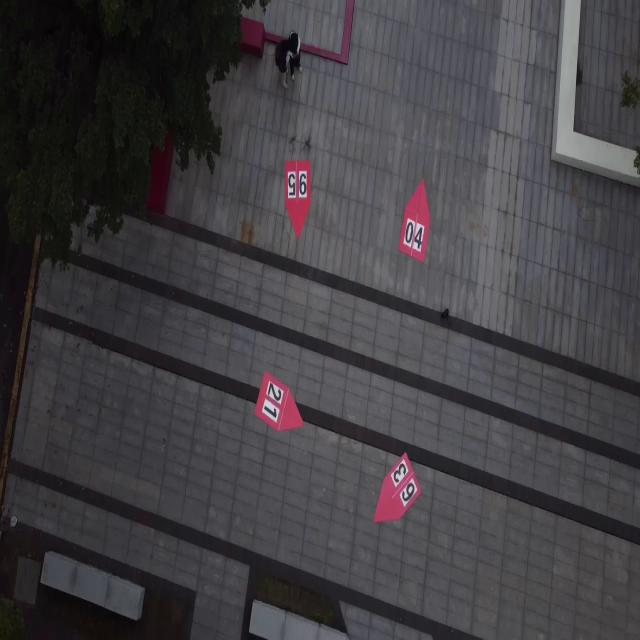-sign-: (373, 452, 423, 525), (255, 370, 304, 433), (398, 178, 431, 263), (284, 158, 311, 239)
